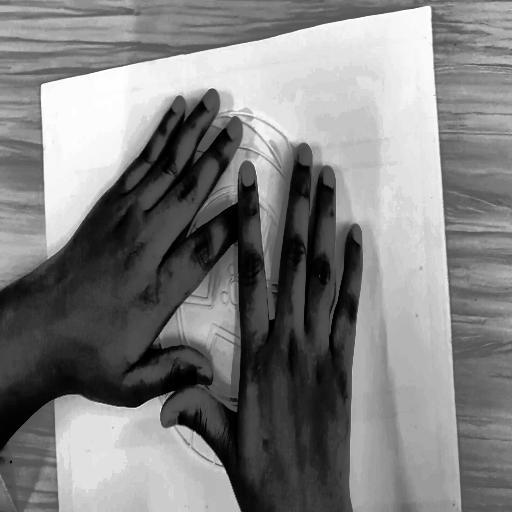tire: (129, 88, 355, 488)
top_left: (39, 79, 46, 94)
top_right: (426, 0, 434, 17)
